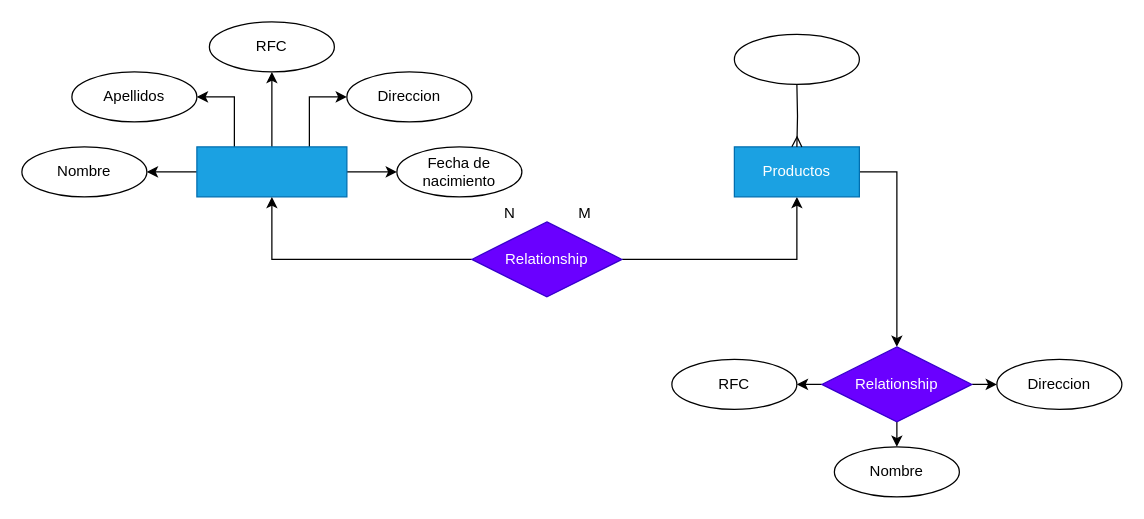
The diagram is 1144 pixels wide and 519 high, and some of its shapes have lost their labels. The box of each missing label's shape, as (x1, y1, x2, y2) in pixels:
EMPRESA: (196, 146, 347, 197)
Proveedor: (733, 33, 859, 84)
